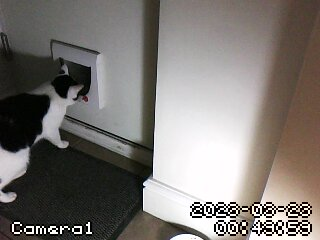bad: (1, 54, 86, 212)
